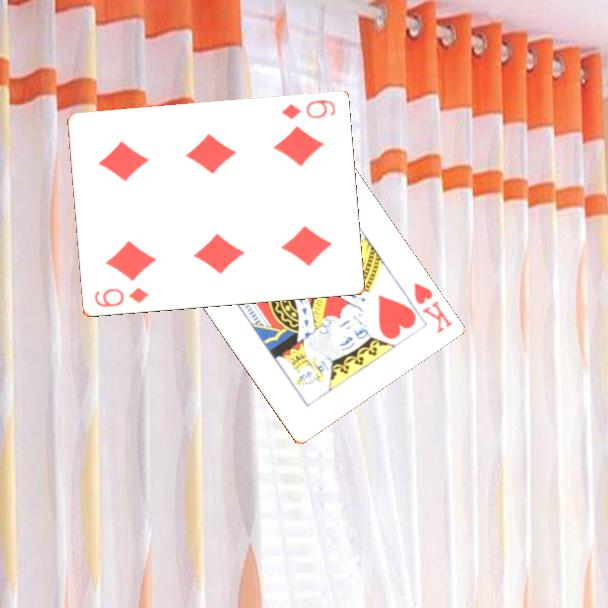d06: (278, 96, 338, 123), (91, 284, 151, 310)
h13: (409, 278, 455, 336)
